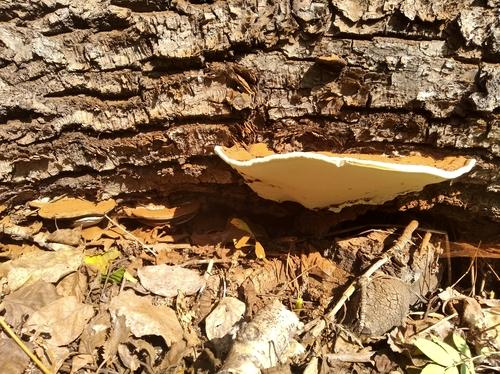Ganoderma - Fruit Body: (212, 130, 484, 219)
